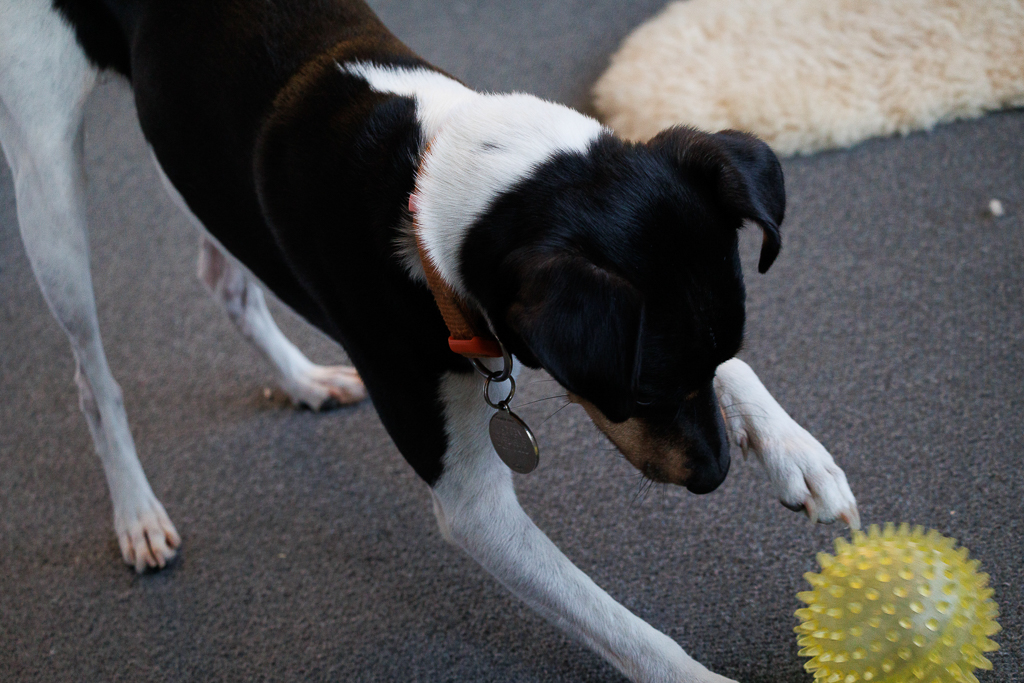Dog: (0, 0, 871, 683)
